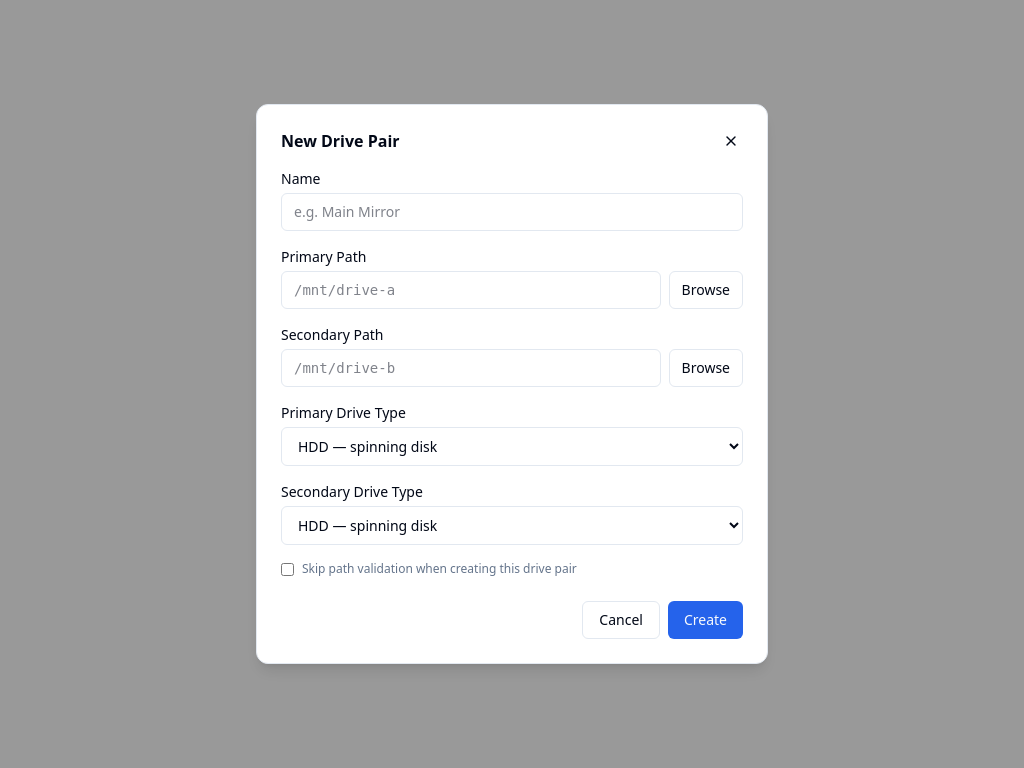
Test case: DriveForm › shows generic error message when save rejects with a plain Error
Type "Mirror A" into the field with test id "drive-name-input" at (512, 212), box x1=281 y1=193 x2=743 y2=231
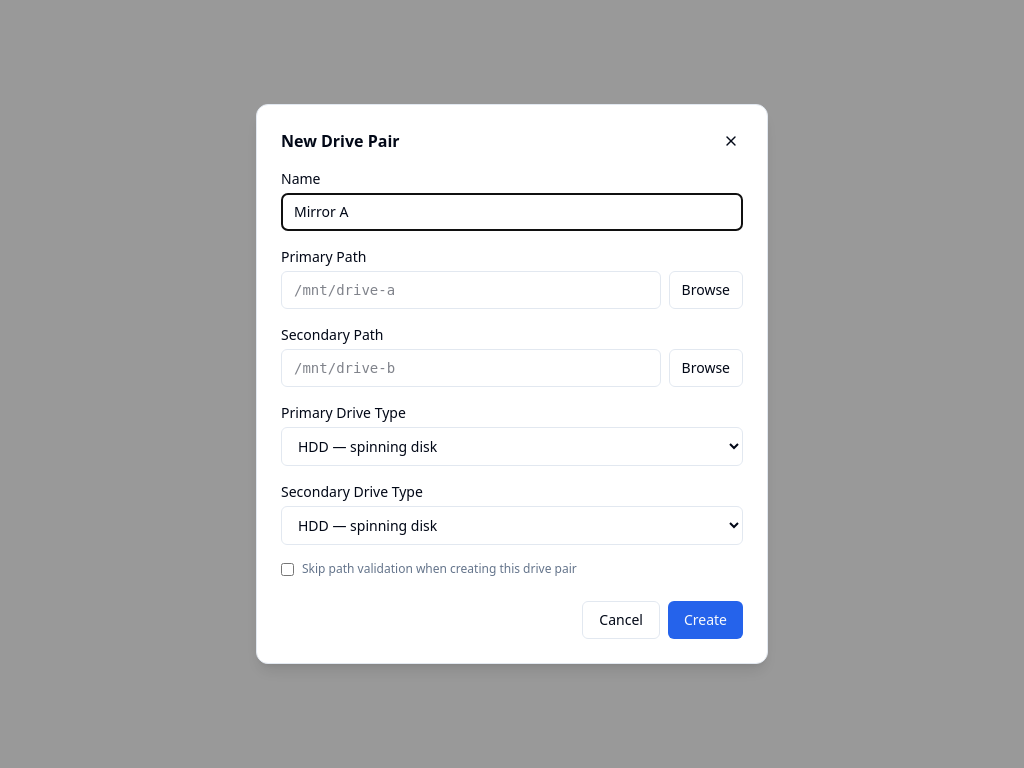
Type "/mnt/primary" into the field with test id "drive-primary-path-input" at (471, 290), box x1=281 y1=271 x2=661 y2=309
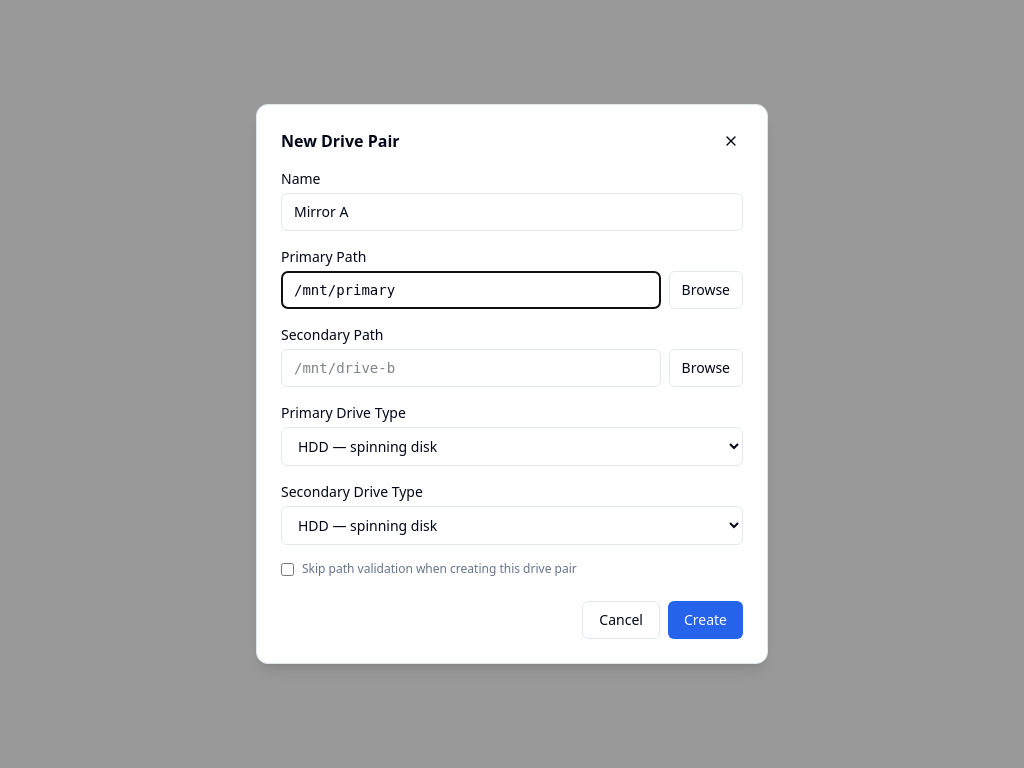
Type "/mnt/secondary" into the field with test id "drive-secondary-path-input" at (471, 368), box x1=281 y1=349 x2=661 y2=387
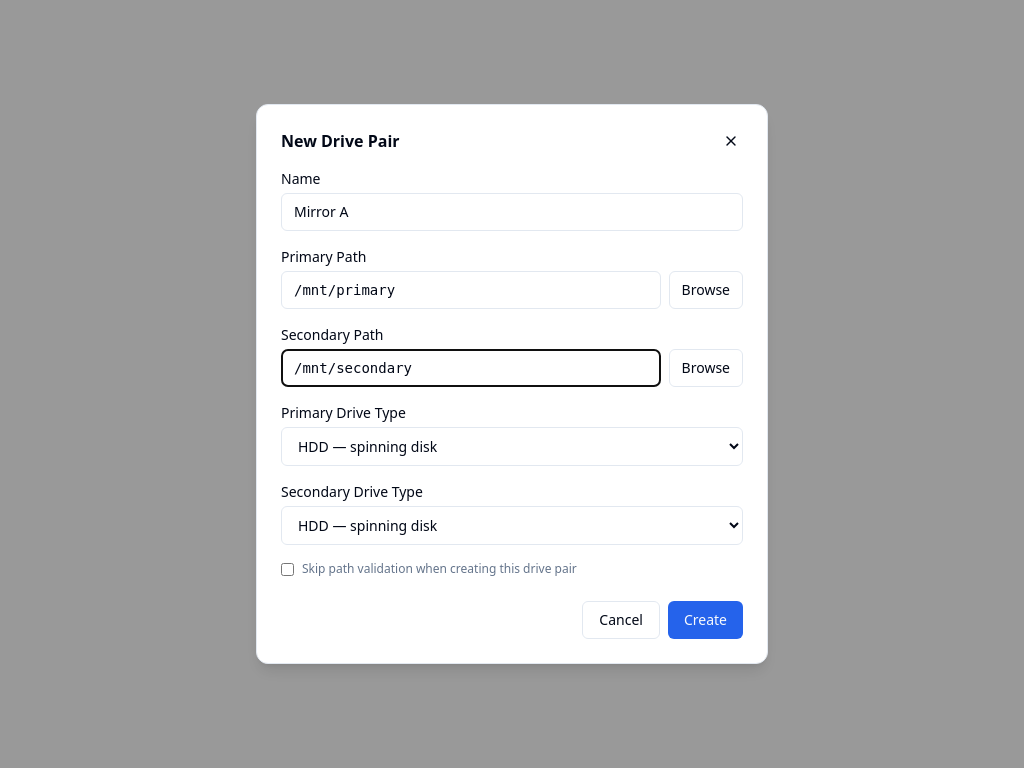
Click the button "Create" at (705, 620), box x1=668 y1=601 x2=743 y2=639
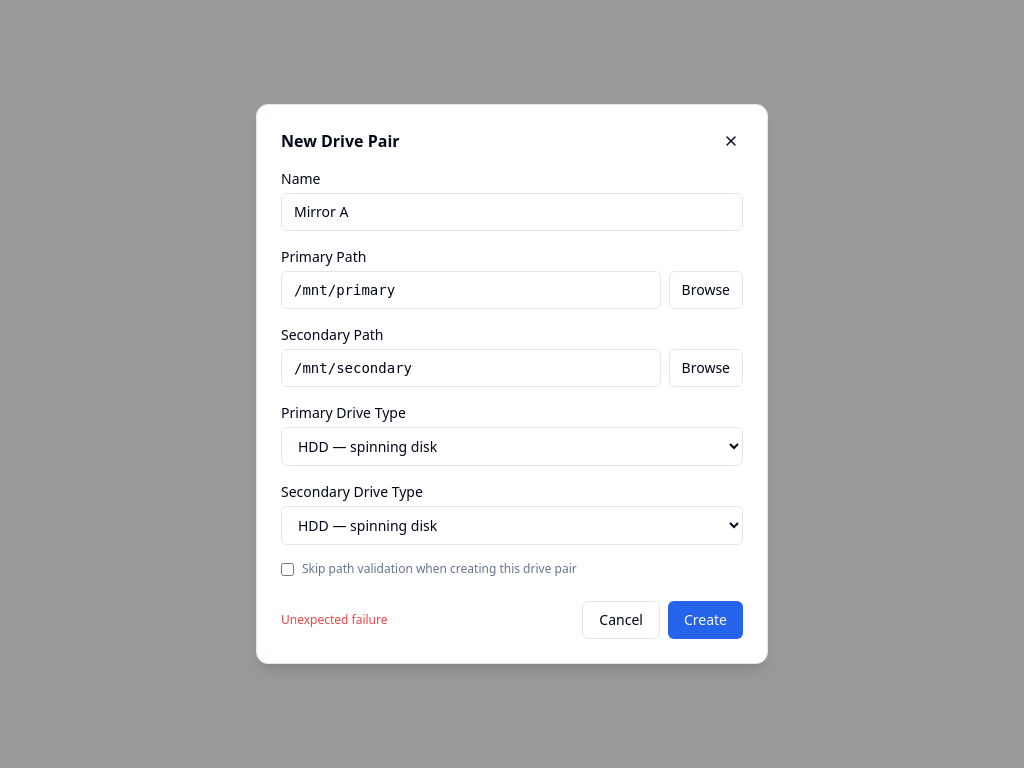
Expected: the text "Unexpected failure" is shown, x1=281 y1=612 x2=388 y2=628
